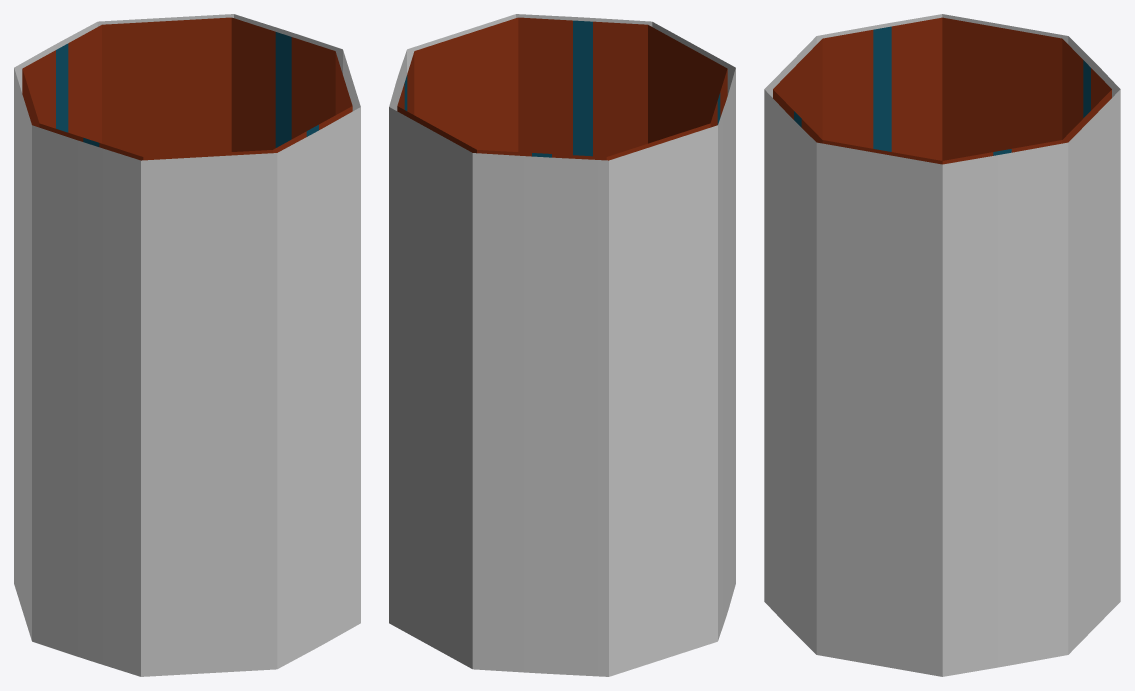
Rendered from Pilar_0B.fbx.
3 renders of one model, left to right at view 1: azimuth 30°, elevation 25°; view 2: azimuth 150°, elevation 25°; view 3: azimuth 270°, elevation 25°, orthographic.
Parts seen in each view (by area): view 1: Pilar_0B; view 2: Pilar_0B; view 3: Pilar_0B.
Part boxes in pixels (bbox=[...]): Pilar_0B: bbox=[14, 14, 360, 676]; Pilar_0B: bbox=[389, 14, 735, 676]; Pilar_0B: bbox=[764, 14, 1120, 676].
Bounding box in the file's own units: 1.26 × 1.26 × 2.
